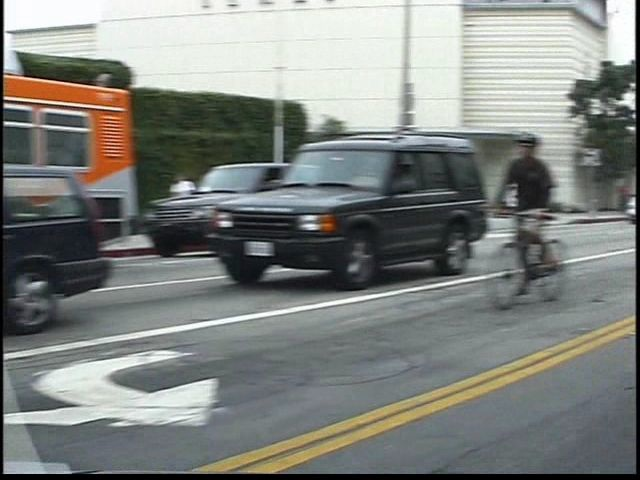person: (519, 127, 583, 299), (190, 172, 219, 242)
